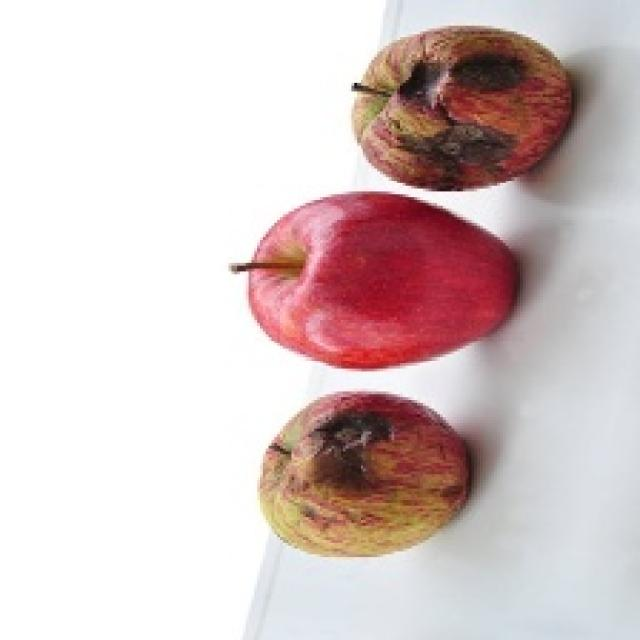rotten_apple: (354, 31, 567, 187), (265, 395, 469, 553)
